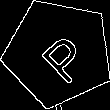P_NW: (27, 22, 90, 84)
